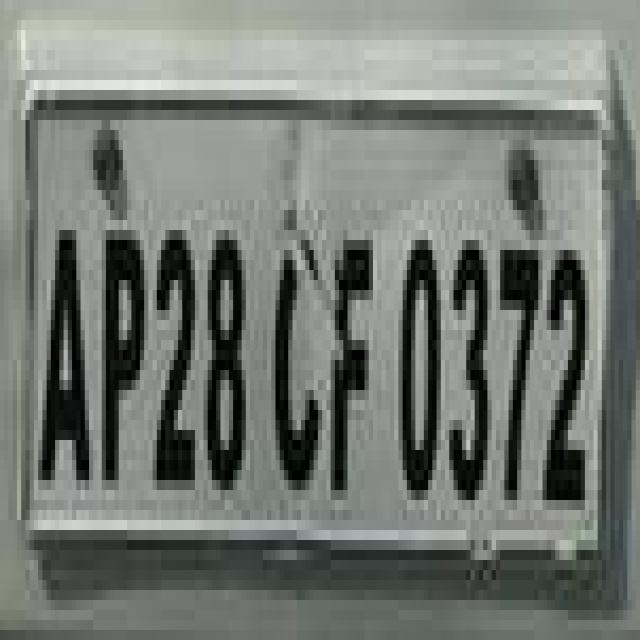license_plate: (9, 100, 606, 560)
